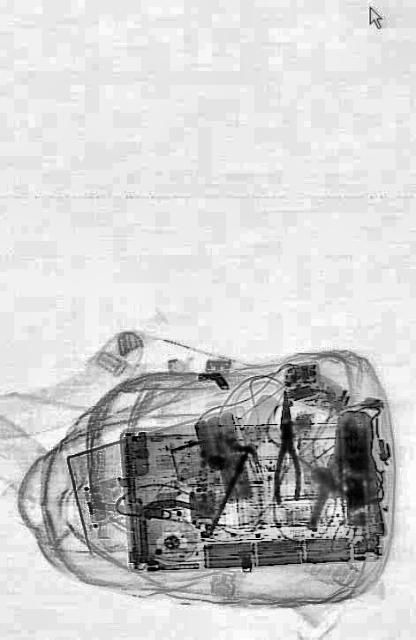Pliers: (271, 386, 301, 506)
